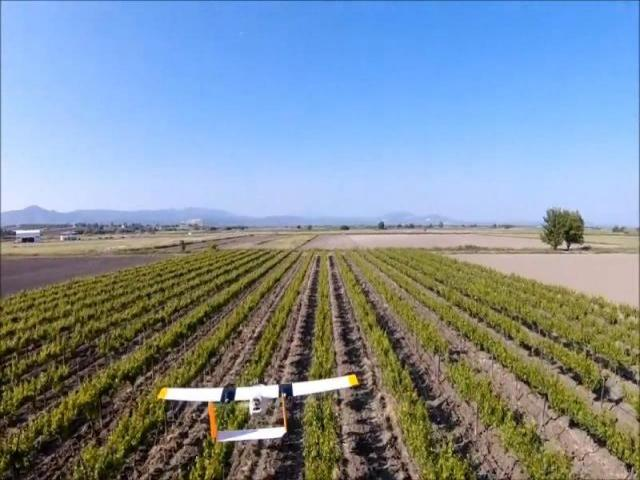hedef: (156, 374, 364, 445)
